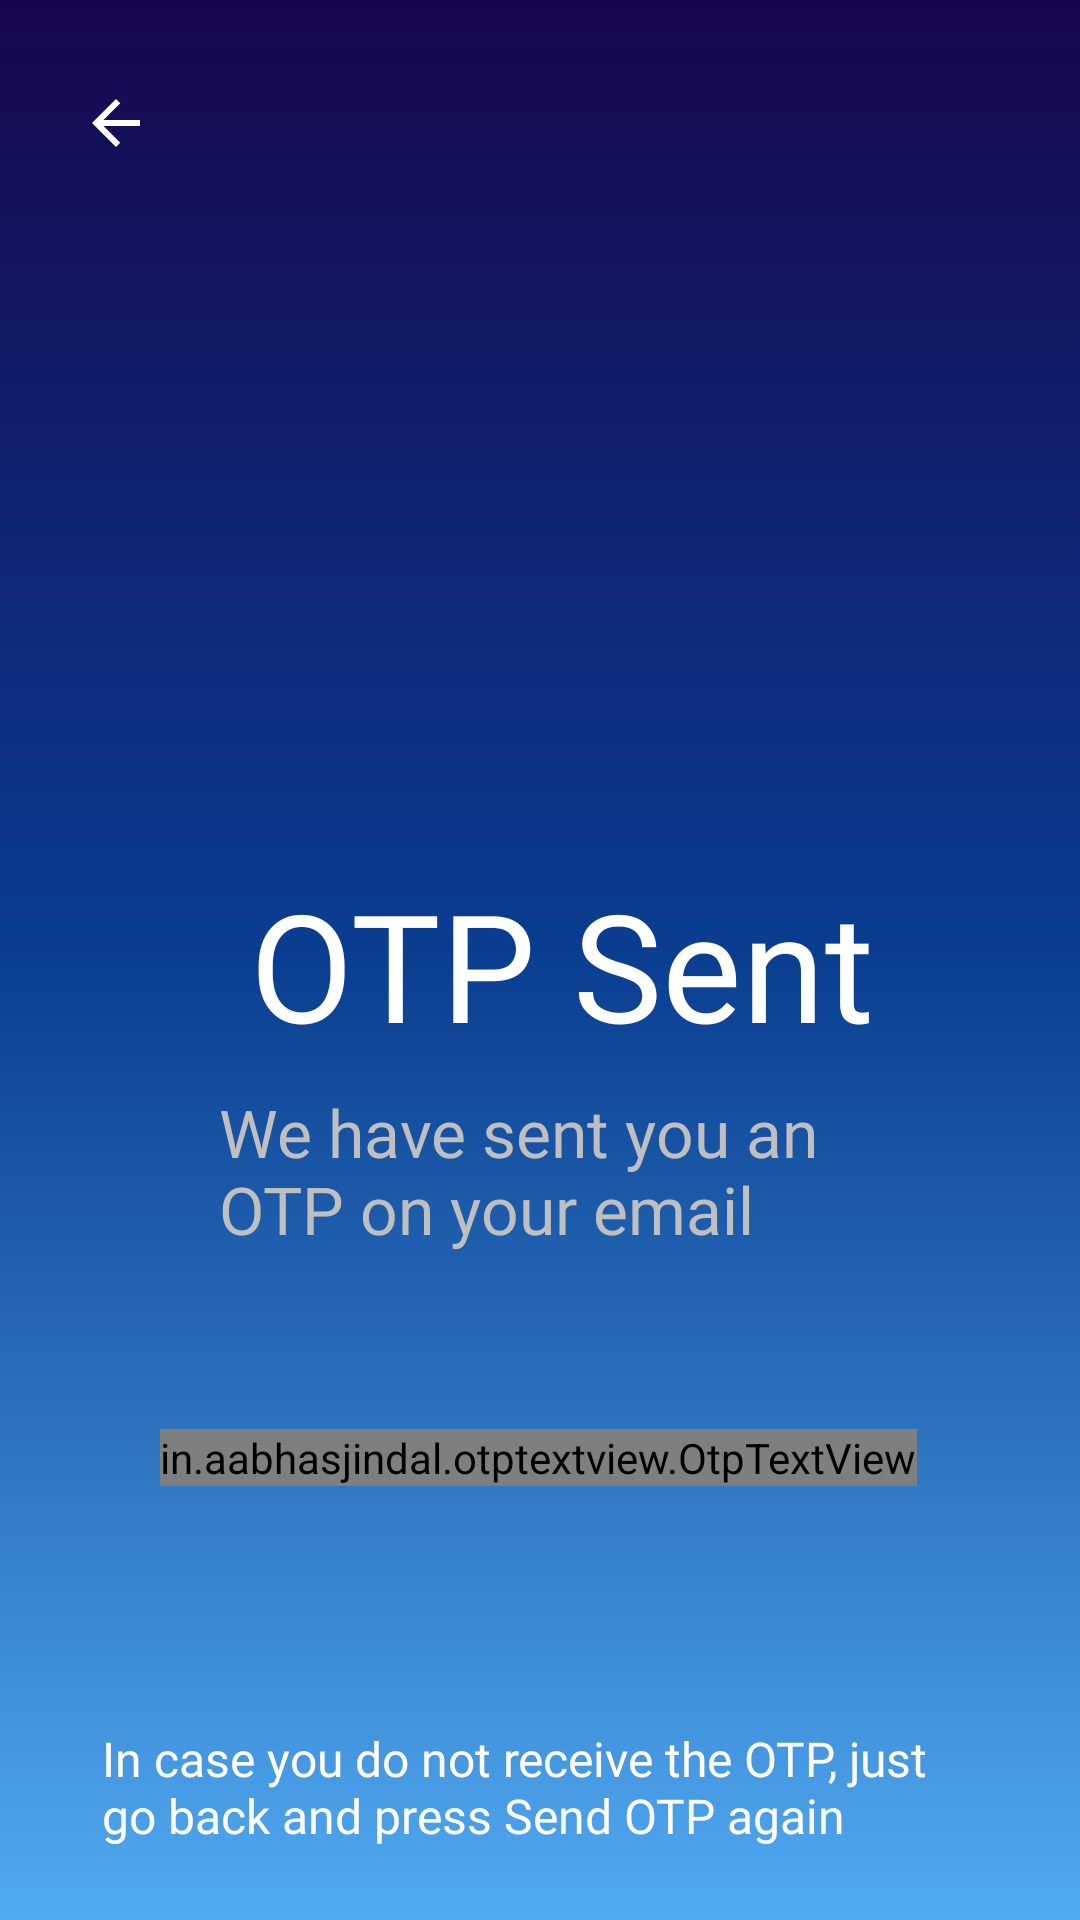

Named icons in this screenshot (1080px x 1920px) and their bounding boxes, (x1, y1, x2, y2):
arrow back: (92, 99, 140, 147)
